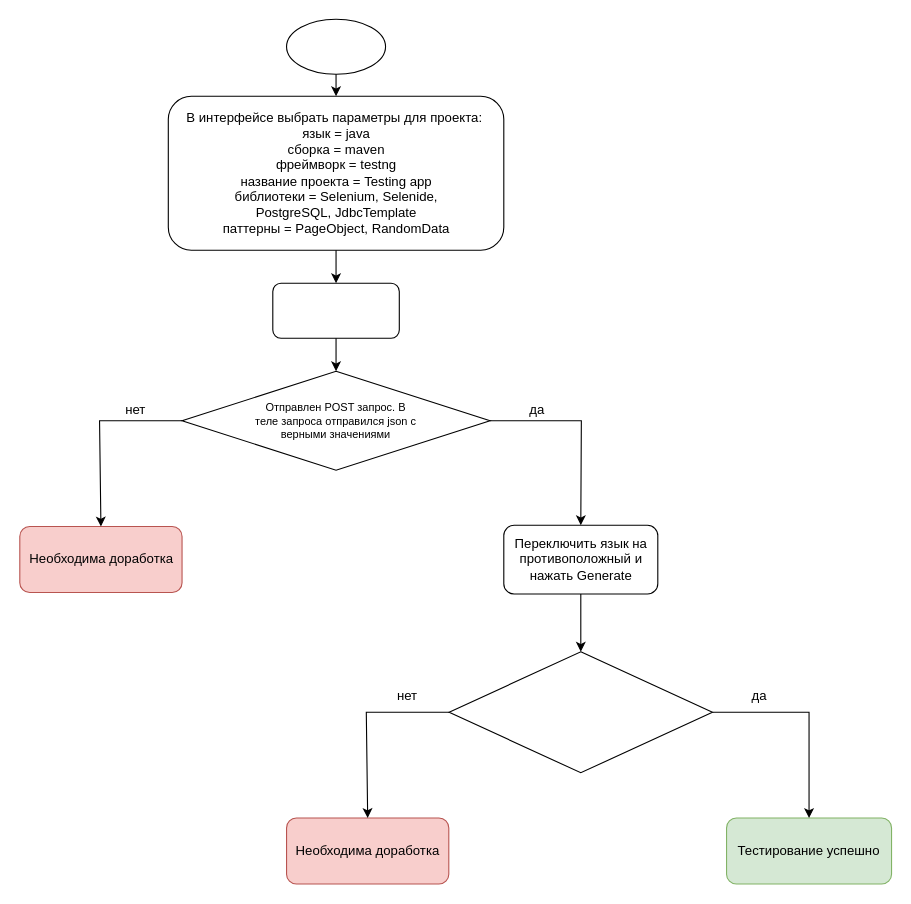
Some shapes in this 911 by 904 pixel diagram are drawn without their labels. The box of each missing label's shape, as (x1, y1, x2, y2) in pixels:
TEST: (285, 18, 386, 74)
Данные предыдущего объекта стерлись. В запросе отправился полупустой объект: (448, 651, 712, 773)
Нажать на кнопку Generate: (272, 282, 399, 338)
